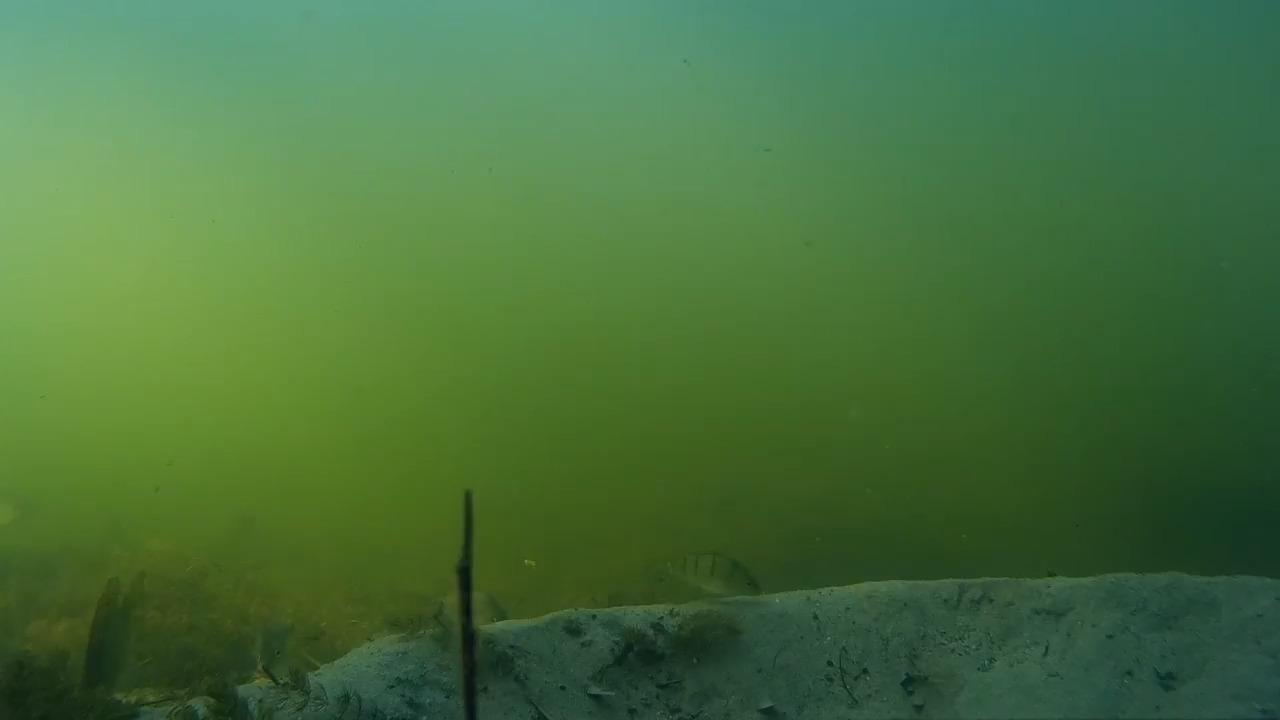Tilapia: (83, 556, 151, 710), (654, 542, 781, 612), (247, 608, 328, 704)
